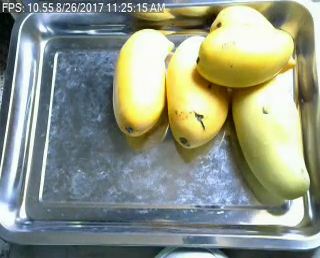Mango: (231, 74, 310, 199), (164, 35, 230, 148), (112, 26, 173, 138), (196, 27, 296, 87), (210, 4, 294, 72)
